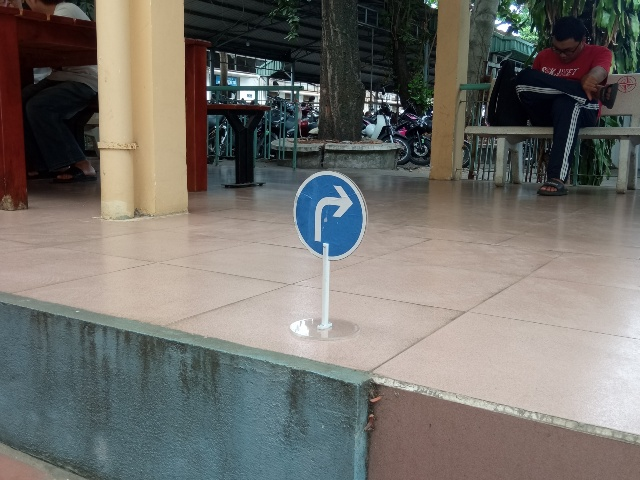Right_Sign: (293, 170, 368, 261)
